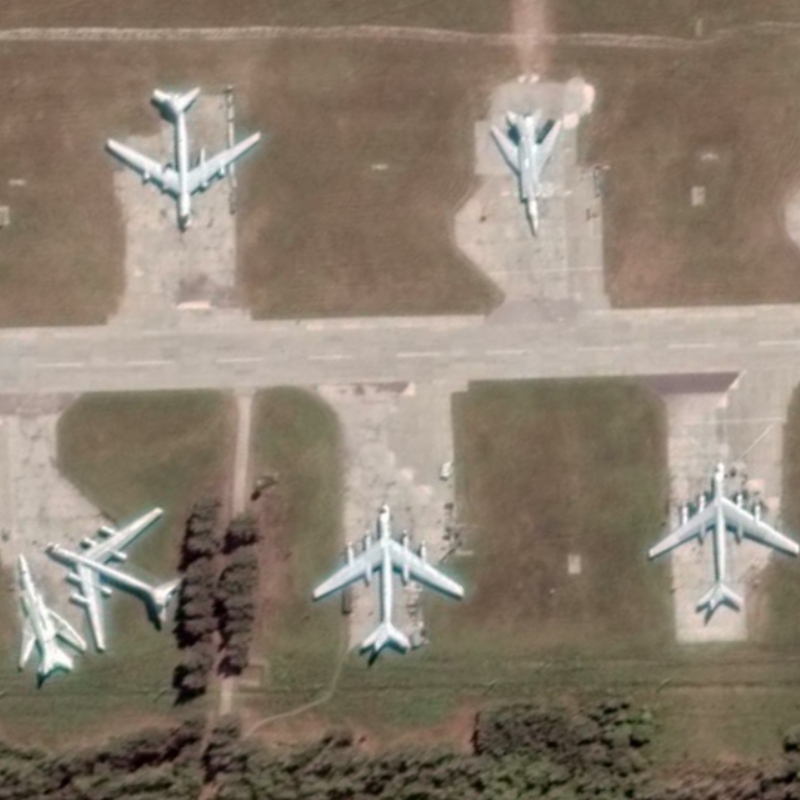A12: (488, 106, 564, 240), (15, 551, 89, 677)
A17: (645, 460, 800, 613), (103, 84, 264, 231), (311, 501, 465, 654), (44, 504, 183, 651)
